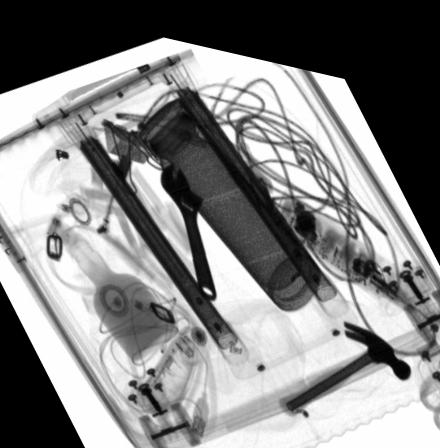Hammer: (274, 303, 410, 401)
Wrench: (159, 153, 216, 287)
